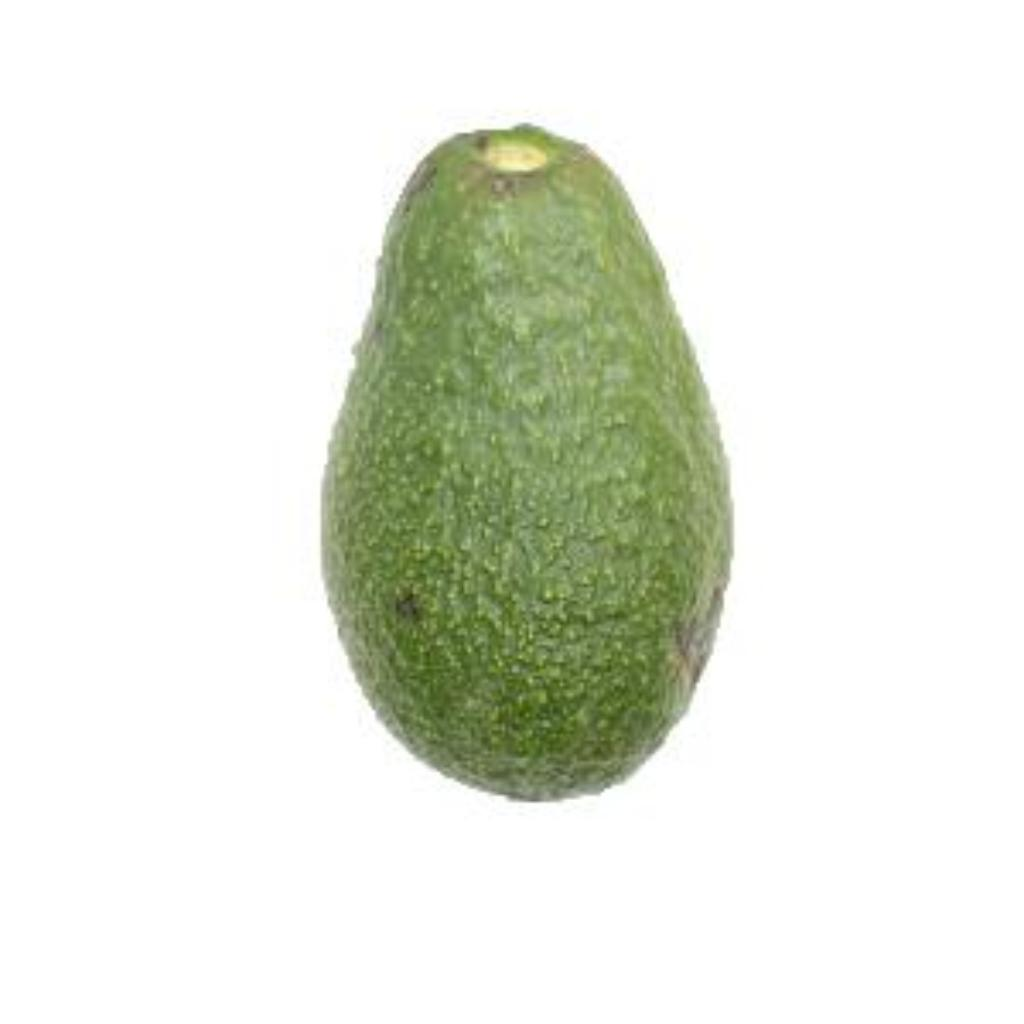cercospora: (271, 86, 810, 813)
